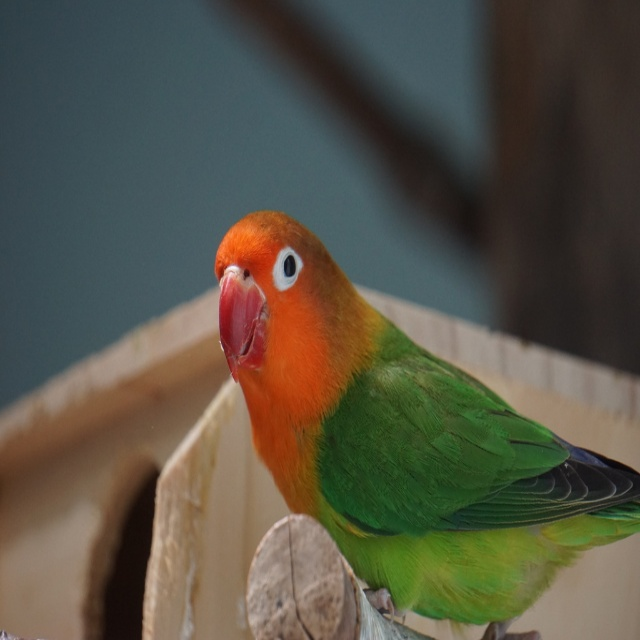Parrot: (213, 205, 640, 639)
